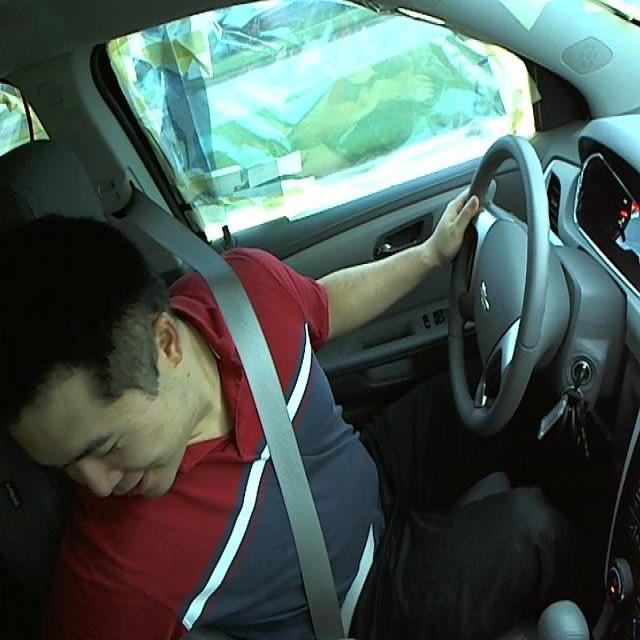seatbelt: (198, 256, 376, 639)
